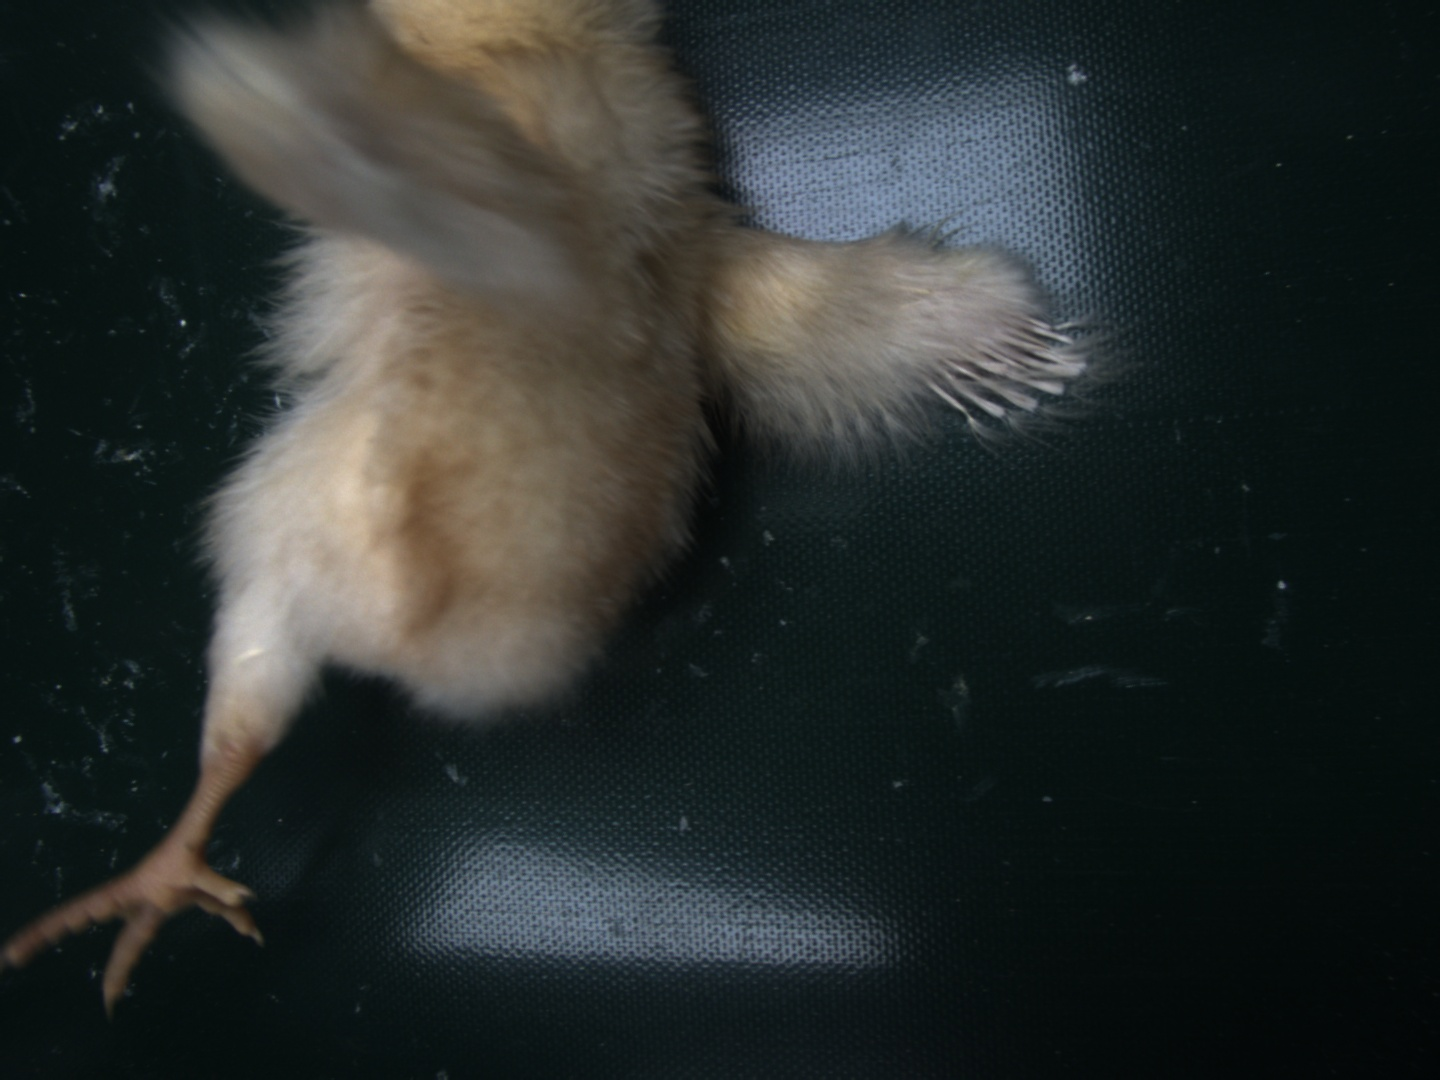female: (917, 311, 1093, 431)
